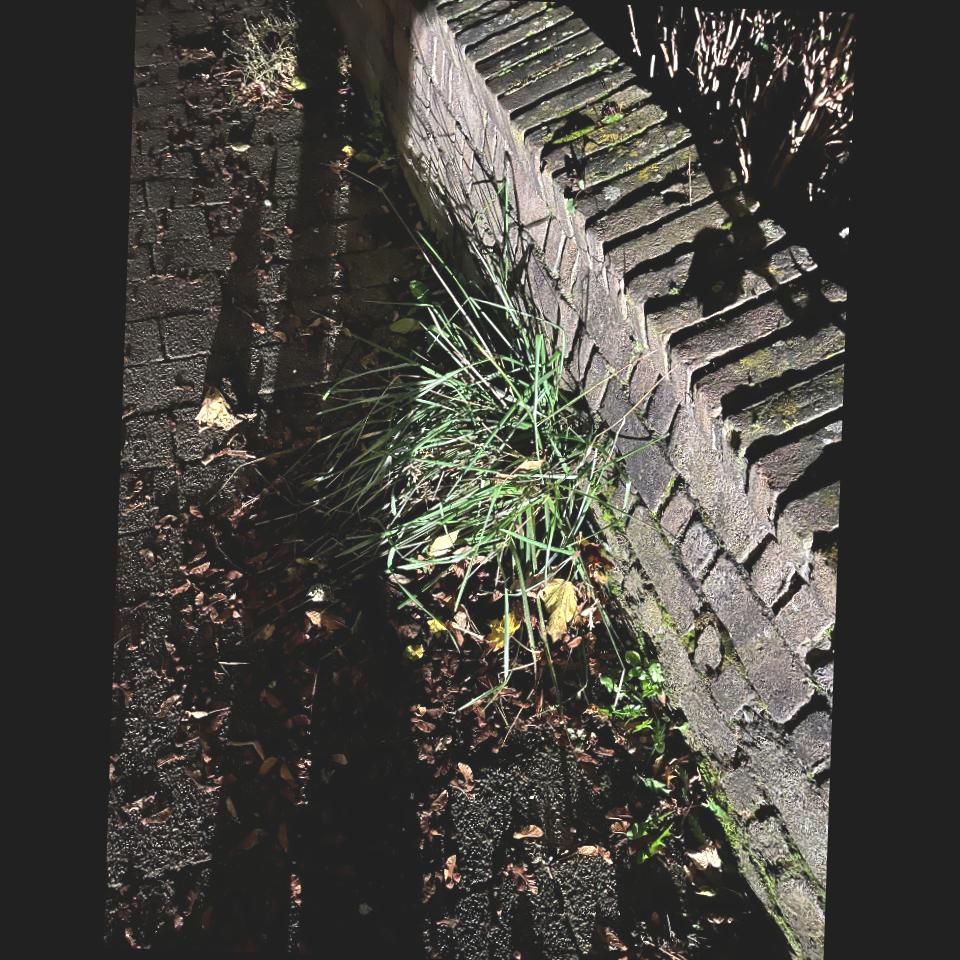weed: (314, 242, 616, 683), (232, 10, 306, 105), (600, 652, 668, 754), (626, 812, 673, 862)
